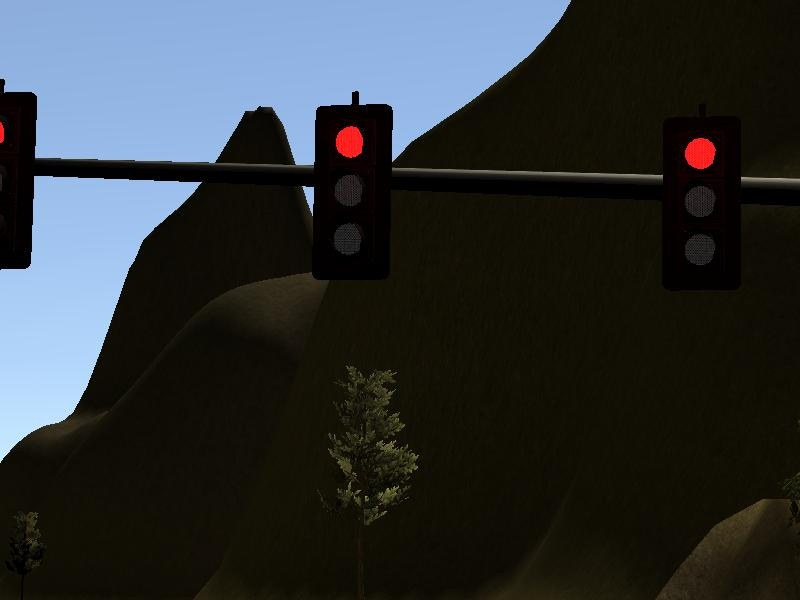RED: (307, 96, 402, 279), (660, 118, 743, 280)
